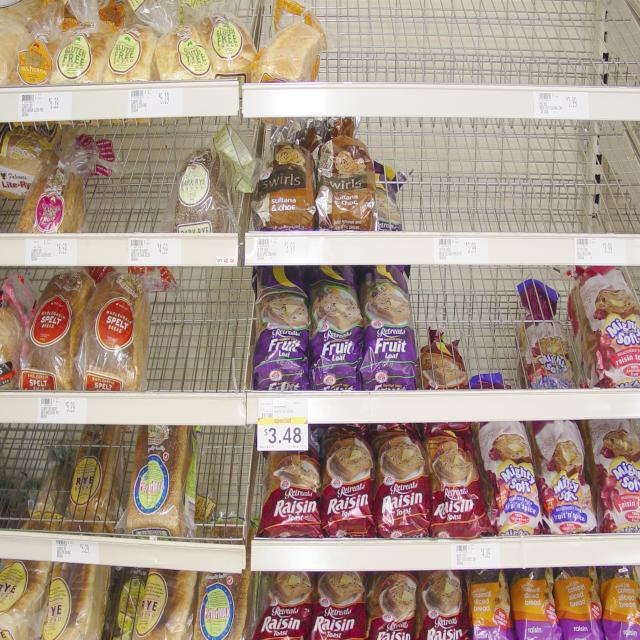empty_space: (383, 139, 621, 219), (349, 20, 627, 76), (422, 287, 568, 379), (3, 436, 109, 511), (163, 288, 245, 372), (196, 447, 256, 527), (107, 136, 161, 220)
